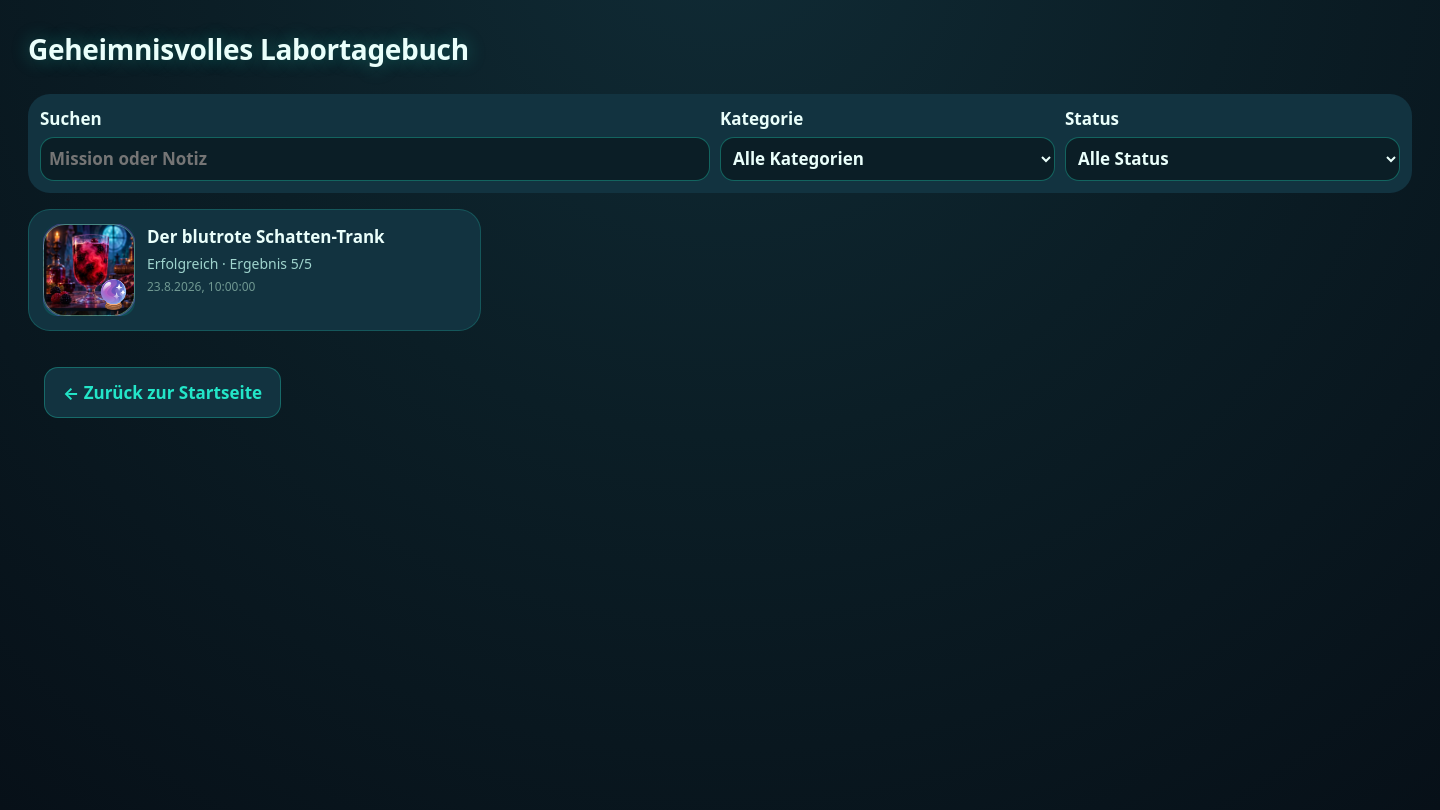
DiaryPage › führt vom Tagebuch-Eintrag zur Detailansicht
The width and height of the screenshot is (1440, 810).
Click the link "Der blutrote Schatten-Trank".
click(255, 270)  # box [28, 208, 481, 330]
(page scrolled)
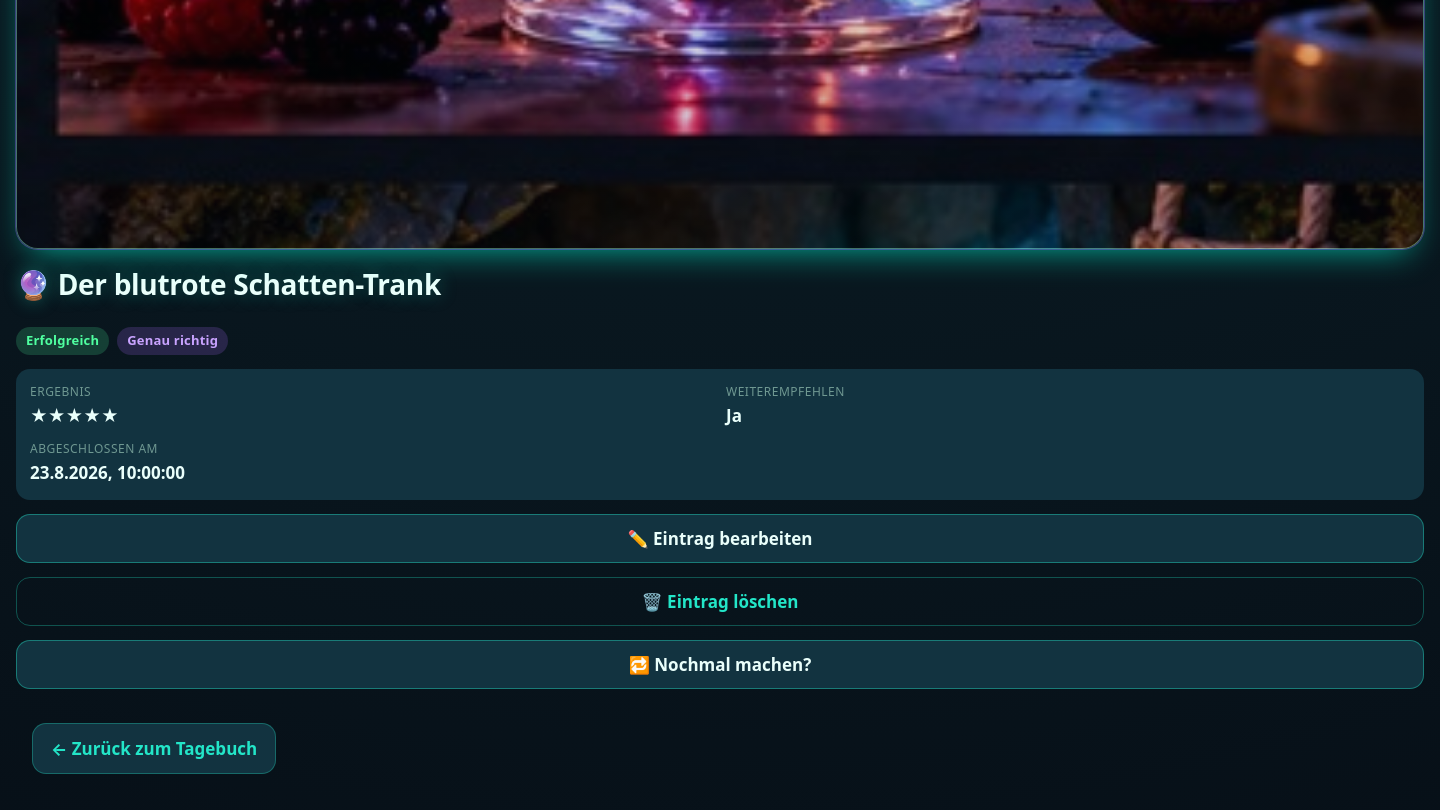
Now the button "🔁 Nochmal machen?" is shown, box [16, 640, 1424, 688]
